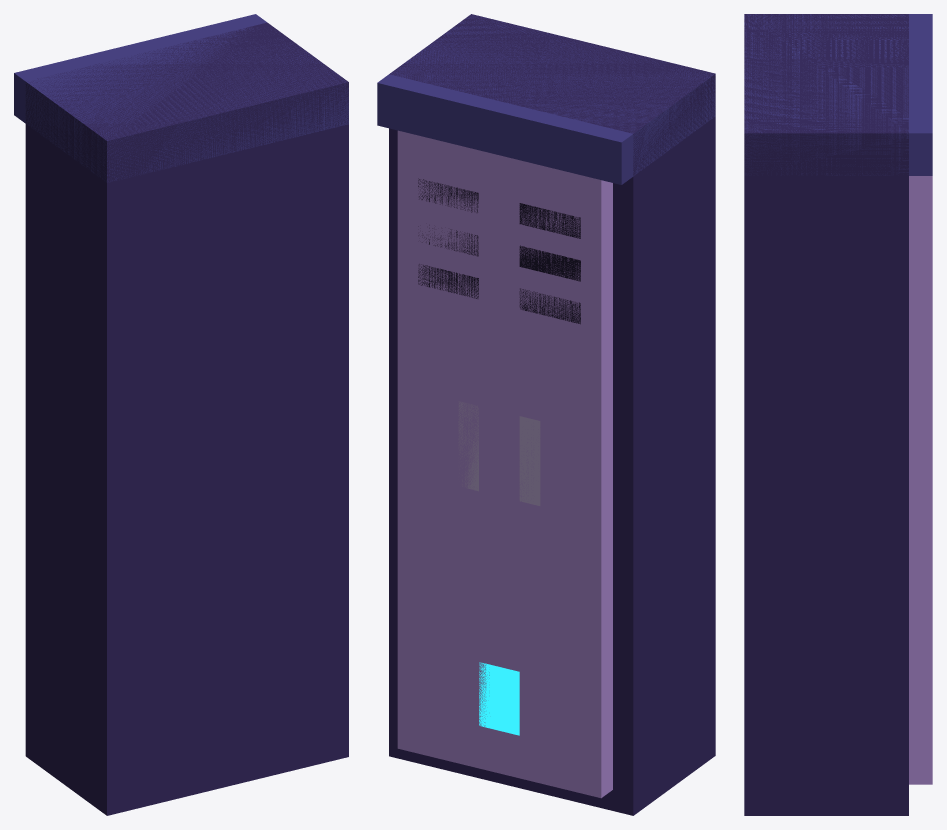
File: shipyard.equipment.wall-locker.glb
3 views of the same model, side by side, from view 1: azimuth 30°, elevation 25°; view 2: azimuth 150°, elevation 25°; view 3: azimuth 270°, elevation 25° (orthographic).
Parts seen in each view (by area): view 1: shipyard.equipment.wall-locker; view 2: shipyard.equipment.wall-locker; view 3: shipyard.equipment.wall-locker.
Part boxes in pixels (x1,y1,x2,y2): shipyard.equipment.wall-locker: (14,14,348,815); shipyard.equipment.wall-locker: (377,14,715,815); shipyard.equipment.wall-locker: (744,14,932,815).
Size of the model in its own units: 0.75 by 2 by 0.5.
